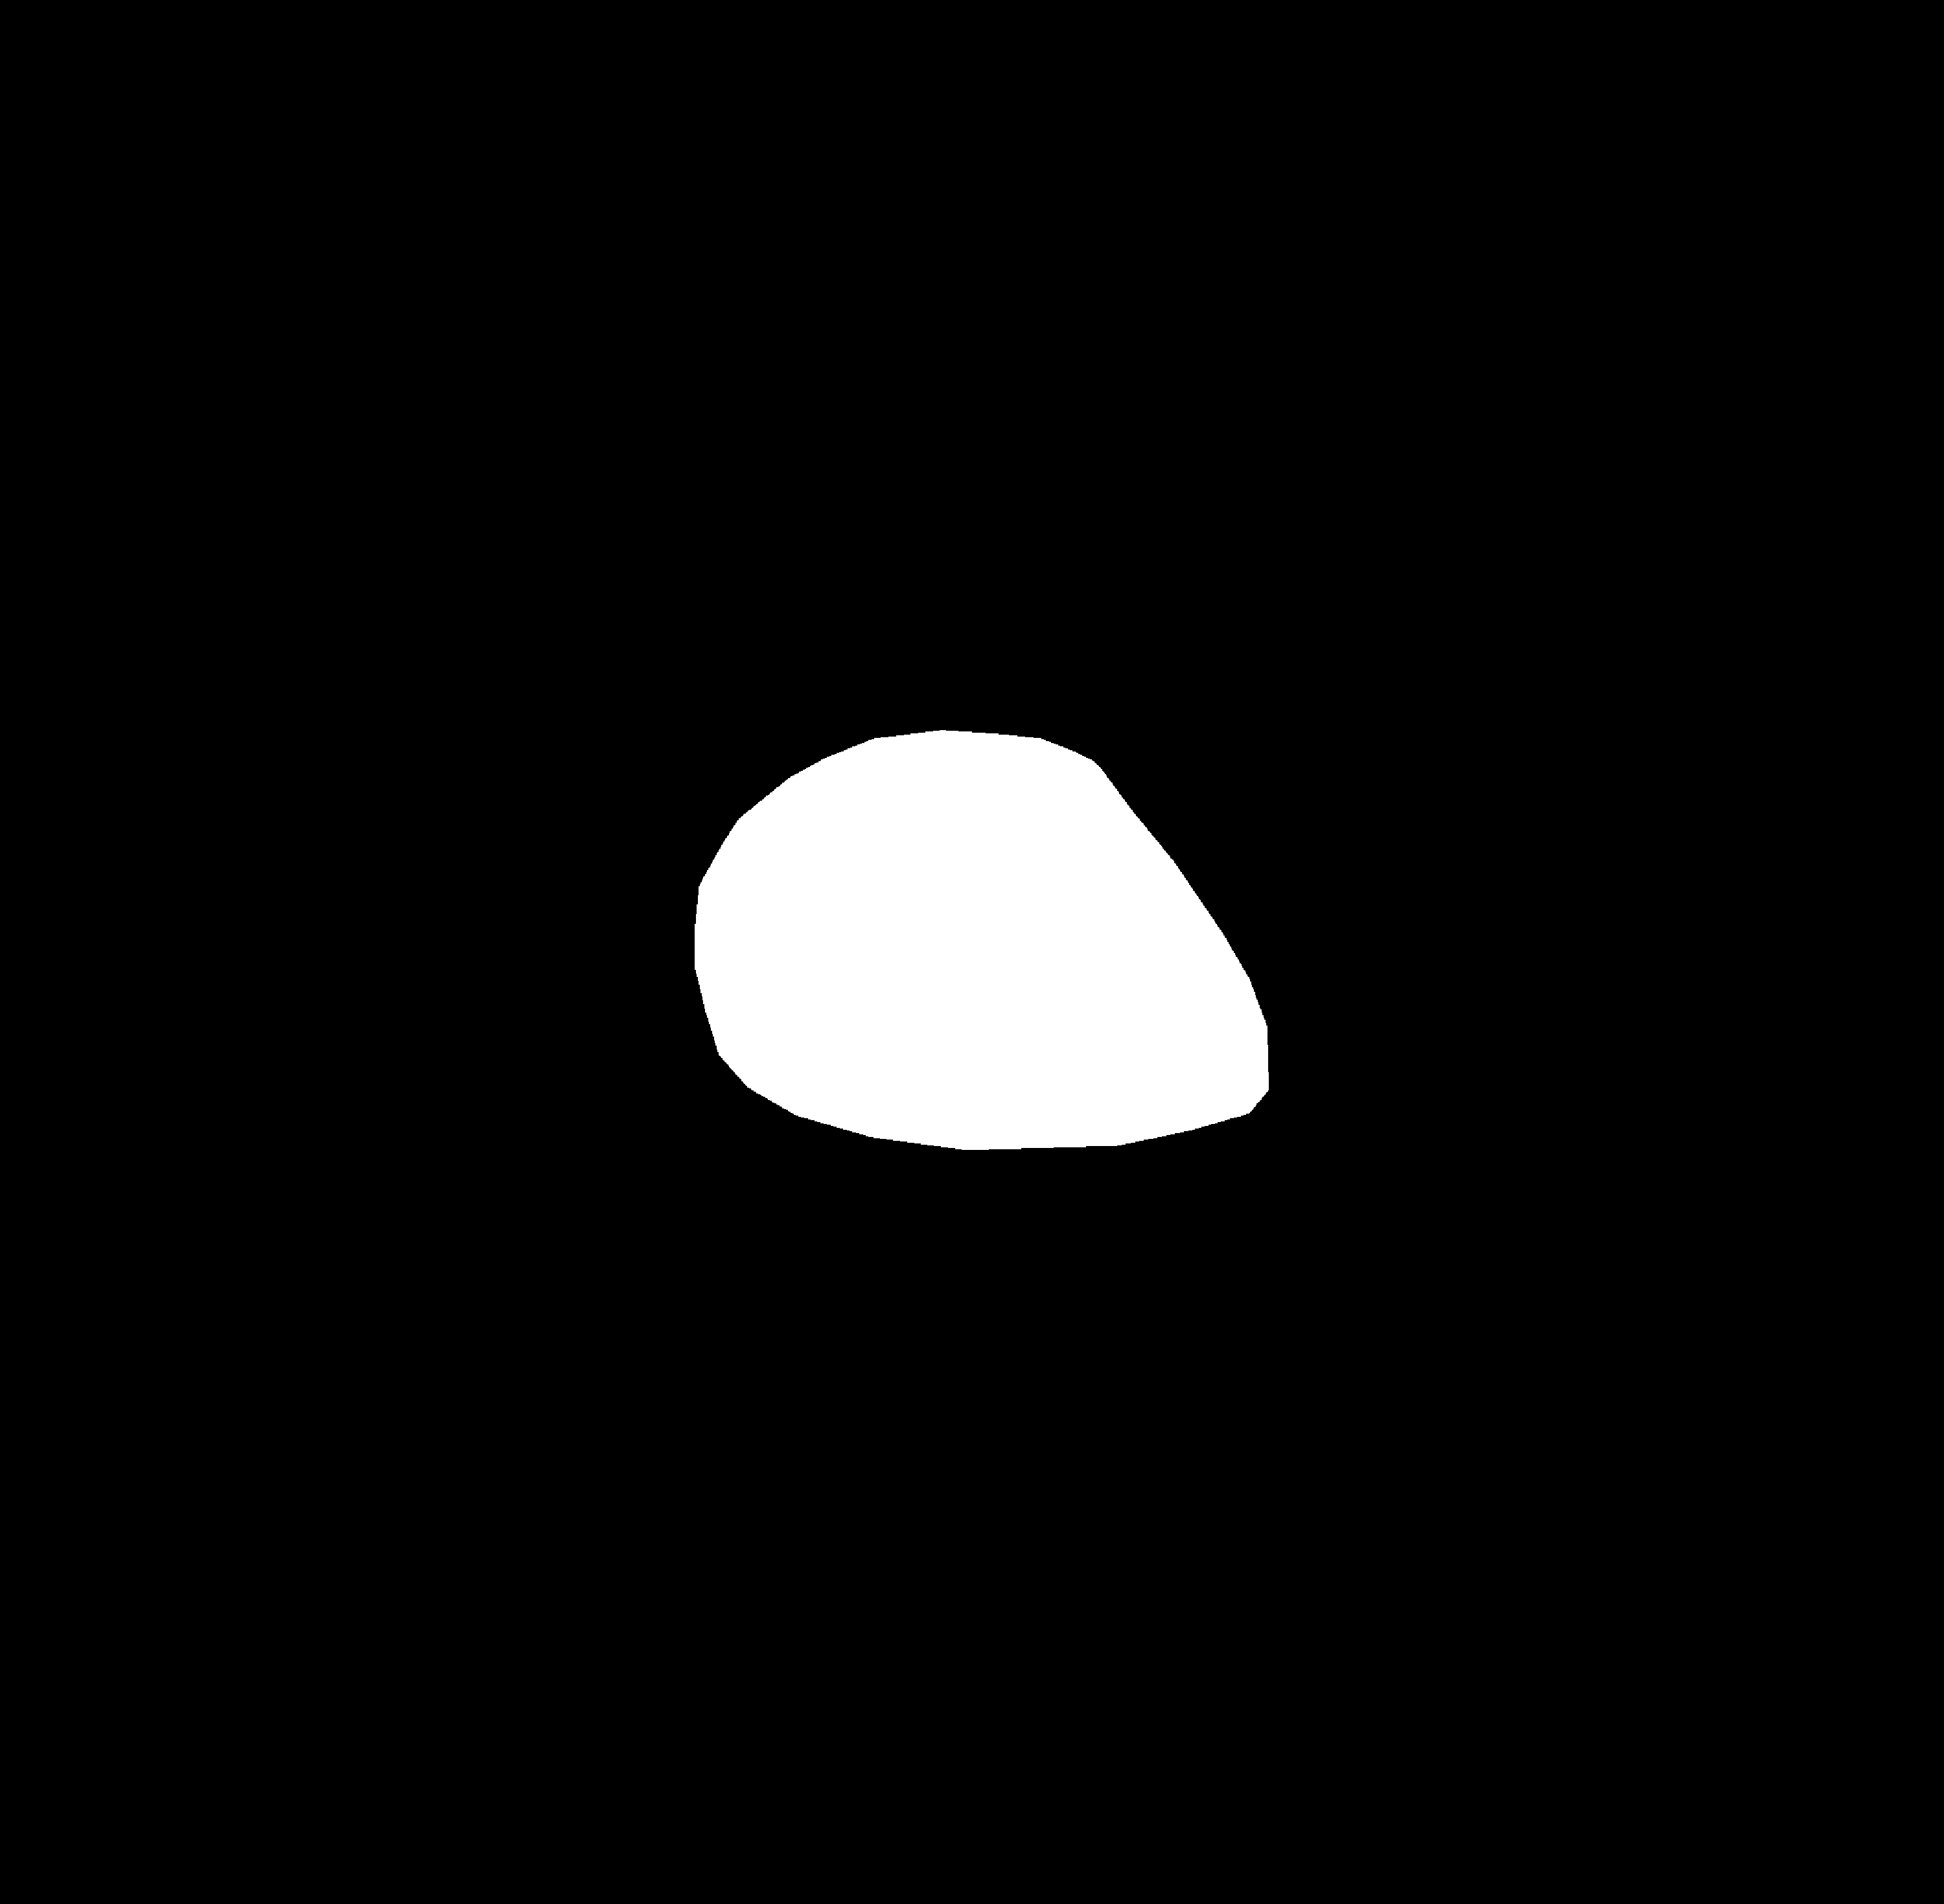heart: (694, 785, 1278, 1180)
left_lung: (281, 153, 854, 1208)
right_lung: (954, 157, 1505, 1254)
